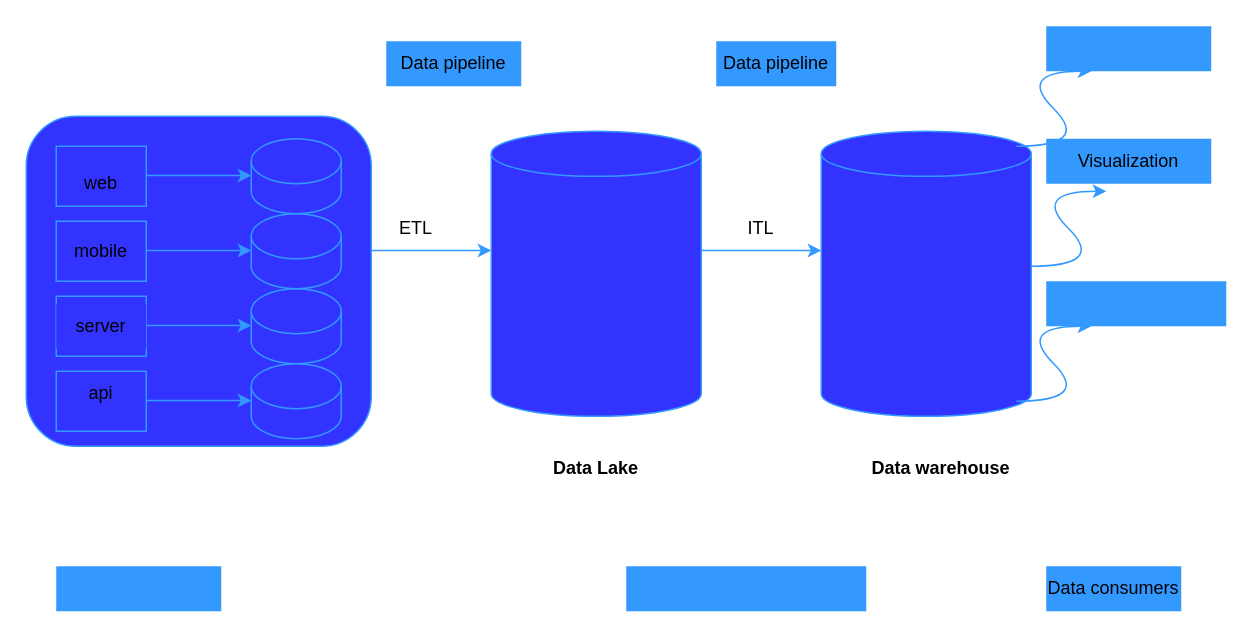
Image size: 1253x636. Some labels were removed from this diagram. The shapes that lost their labels are listed below. From the top down, each one's centre as x and y in pixels, then its label:
the point at 1128,48: ML Training model
the point at 1136,303: Data Science
the point at 138,588: Data sources
the point at 746,588: Analytical Data
